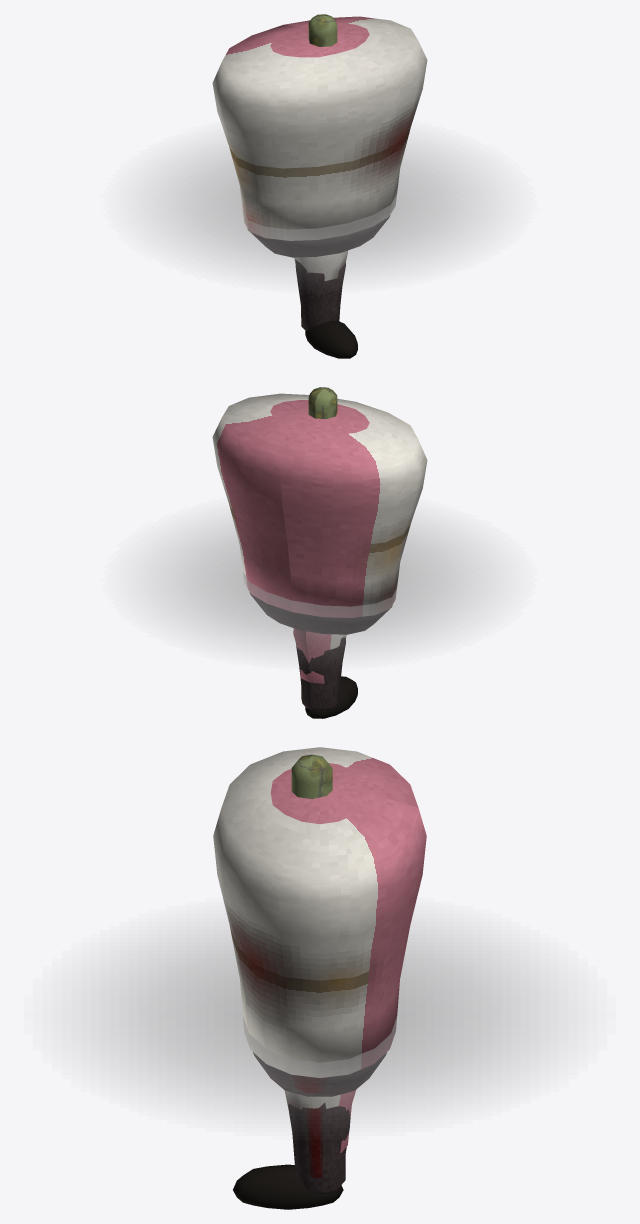
3 renders of one model, top to bottom at view 1: azimuth 30°, elevation 25°; view 2: azimuth 150°, elevation 25°; view 3: azimuth 270°, elevation 25°, orthographic. The views are drawn at different scales.
Visible parts, largest first — view 1: spine__x__1, root__x__9, legL1__x__10, core__x__0, legL2__x__12, armL1__x__5, spine__x__2; view 2: spine__x__1, root__x__9, legL1__x__10, core__x__0, armL1__x__5, spine__x__2, legL2__x__12; view 3: root__x__9, spine__x__1, legL1__x__10, legL2__x__12, core__x__0, spine__x__2, armL1__x__5.
Part boxes in pixels (x1,y1,x2,y2): spine__x__1: (212, 16, 427, 240); root__x__9: (132, 133, 507, 281); legL1__x__10: (295, 259, 345, 330); core__x__0: (247, 215, 390, 257); legL2__x__12: (305, 320, 357, 358); armL1__x__5: (294, 250, 347, 281); spine__x__2: (308, 14, 337, 46); spine__x__1: (212, 393, 427, 617); root__x__9: (132, 510, 508, 658); legL1__x__10: (296, 637, 345, 711); core__x__0: (249, 592, 392, 634); armL1__x__5: (293, 628, 346, 683); spine__x__2: (308, 387, 337, 419); legL2__x__12: (305, 676, 357, 718); root__x__9: (62, 914, 577, 1123); spine__x__1: (213, 747, 426, 1077); legL1__x__10: (288, 1102, 350, 1195); legL2__x__12: (233, 1164, 343, 1209); core__x__0: (253, 1052, 386, 1096); spine__x__2: (291, 754, 332, 798); armL1__x__5: (284, 1090, 355, 1153).
Size of the model in its own units: 1.55 by 1.24 by 1.55.
Materials: 7 (5 with a texture image).
